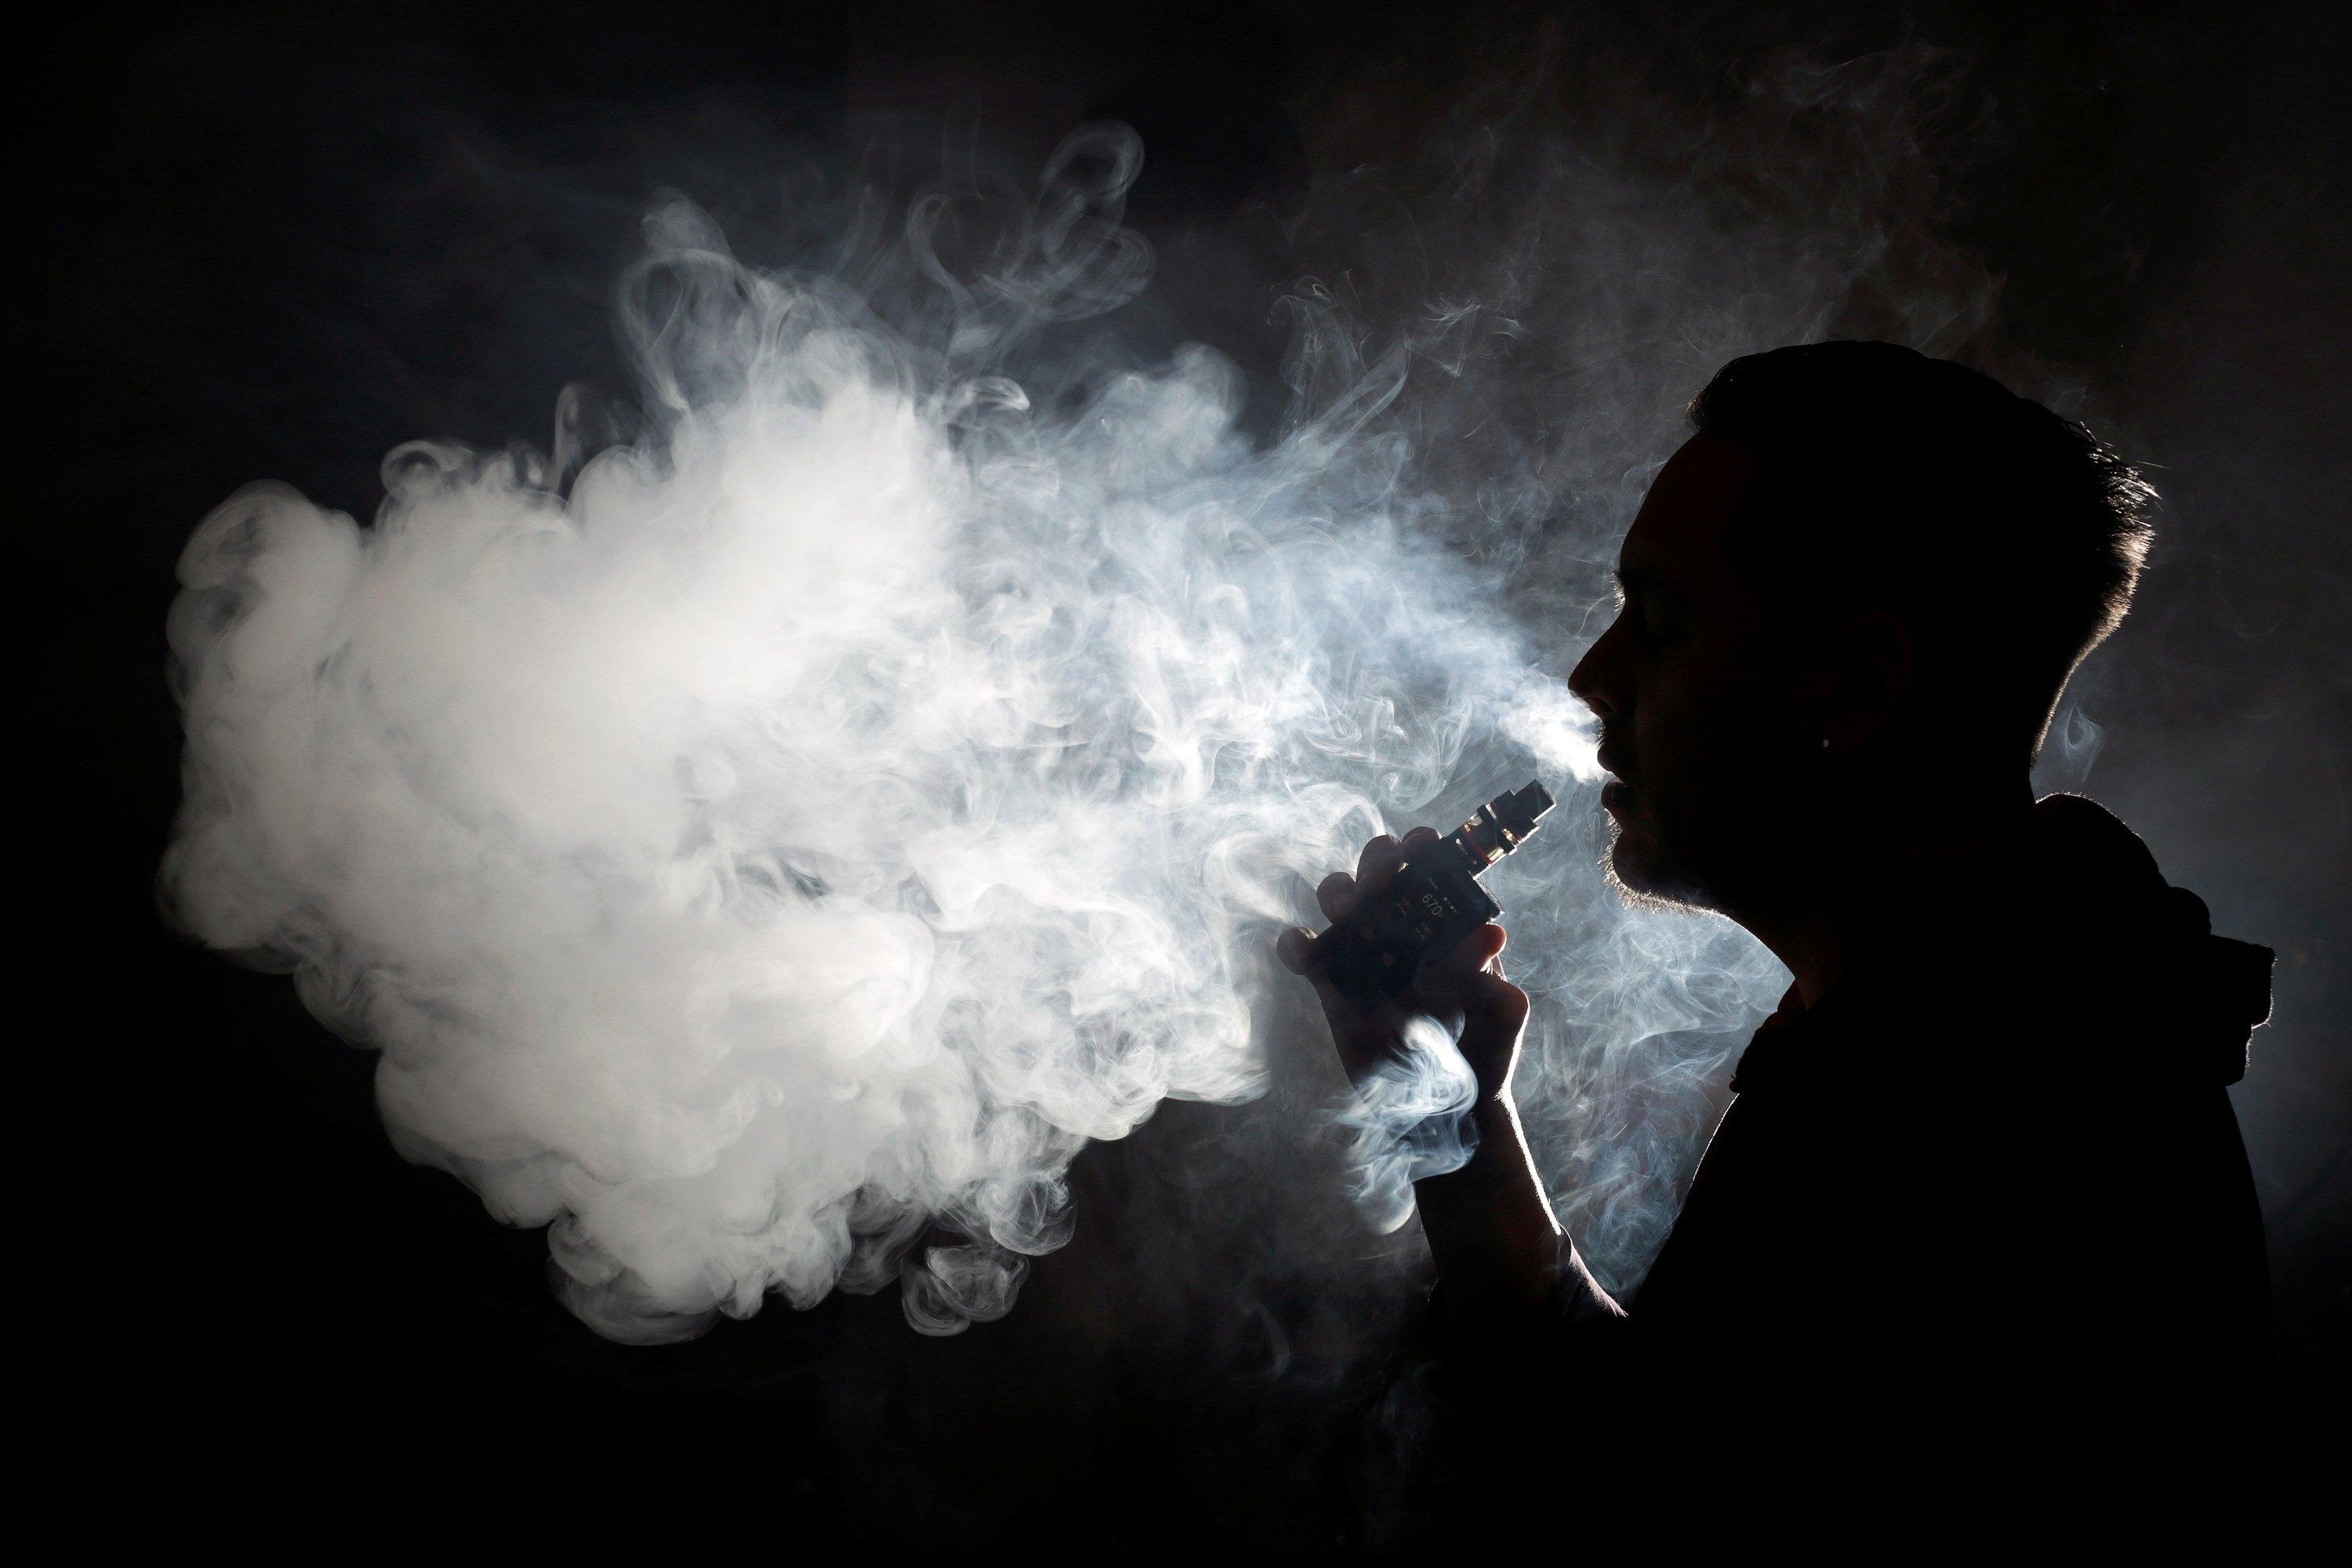Vape: (1306, 779, 1557, 1017)
